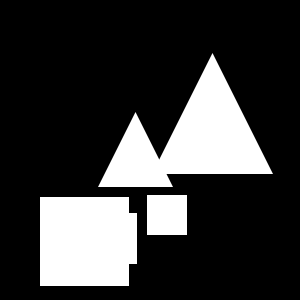circle: (40, 197, 129, 286), (86, 213, 137, 264), (147, 195, 187, 235)
triangle: (152, 53, 273, 174), (98, 112, 173, 187)
